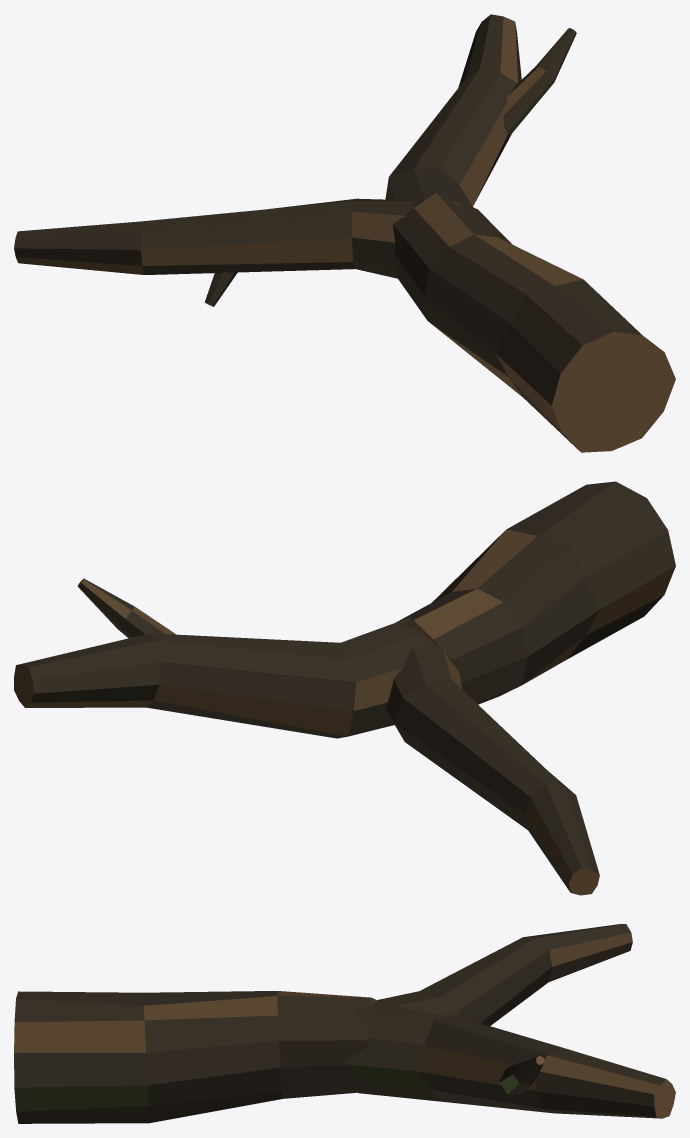
File: wood_006b_high_fork_log.glb
The picture shows the model from 3 angles, top to bottom: view 1: azimuth 30°, elevation 25°; view 2: azimuth 150°, elevation 25°; view 3: azimuth 270°, elevation 25°; orthographic projection. The views are drawn at different scales.
Parts seen in each view (by area): view 1: wood_006b_high_fork_log__mesh; view 2: wood_006b_high_fork_log__mesh; view 3: wood_006b_high_fork_log__mesh.
Part boxes in pixels (x1,y1,x2,y2): wood_006b_high_fork_log__mesh: (14, 14, 675, 452); wood_006b_high_fork_log__mesh: (14, 481, 675, 895); wood_006b_high_fork_log__mesh: (14, 924, 675, 1123).
Size of the model in its own units: 9.64 by 3.03 by 10.86.
